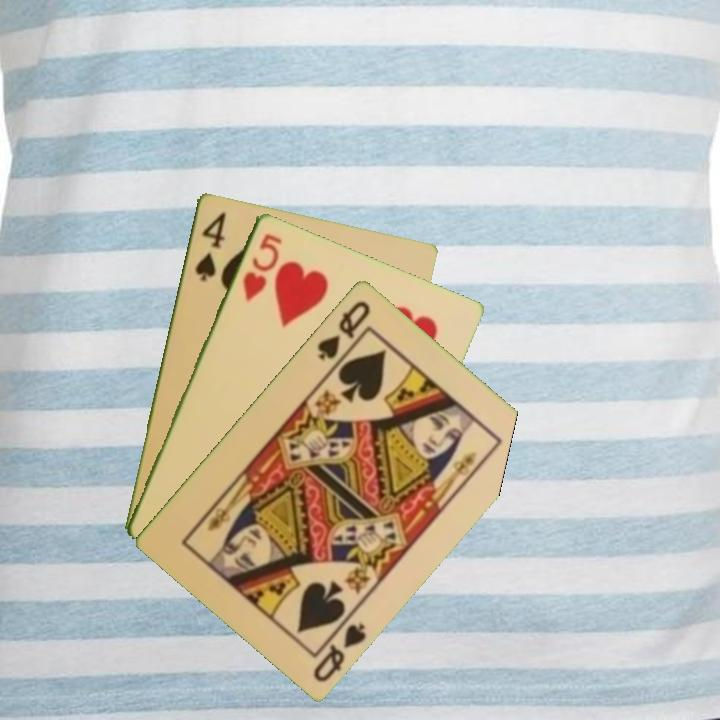4s: (191, 208, 229, 284)
5h: (239, 229, 285, 303)
Qs: (314, 296, 374, 363), (309, 619, 369, 685)
